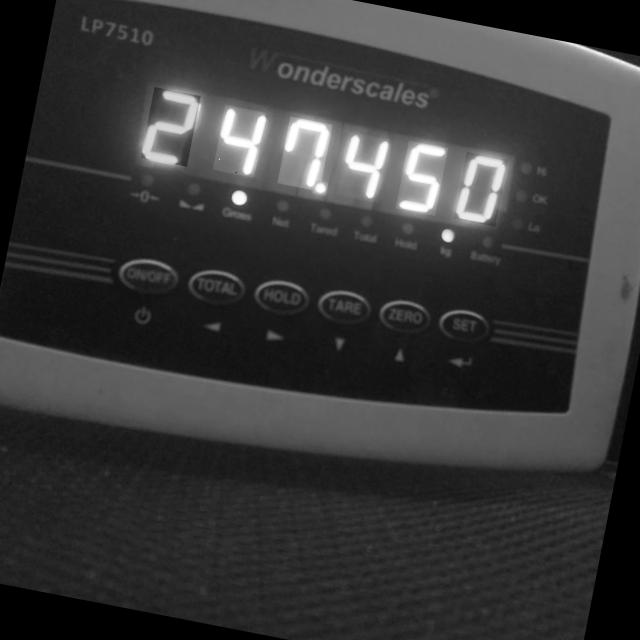.: (312, 180, 328, 196)
0: (454, 152, 508, 227)
2: (141, 87, 202, 167)
4: (212, 105, 266, 178), (336, 132, 389, 203)
5: (396, 141, 448, 216)
7: (278, 116, 332, 192)
